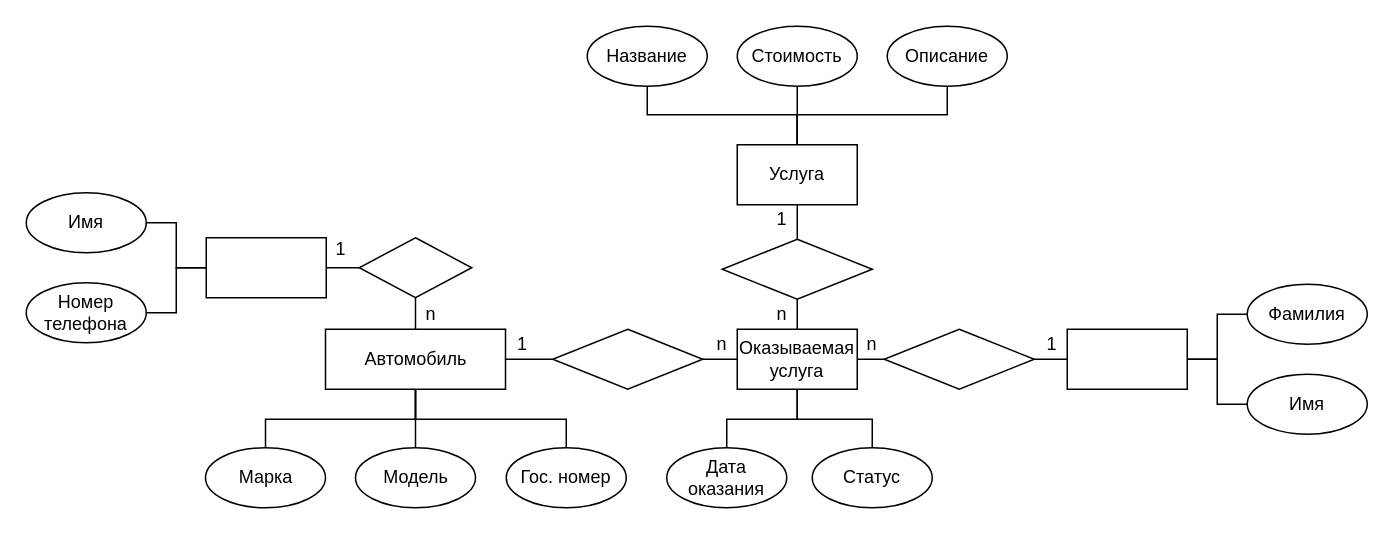
This 1394x534 diagram has some shape labels left out. Here are the shapes that lost their labels. From the top down, the centre of each, then its label:
At pixel 265 267: "Клиент".
At pixel 415 267: "Владеет".
At pixel 796 268: "Содержит".
At pixel 627 358: "Оказывается".
At pixel 958 358: "Выполняется".
At pixel 1126 358: "Сотрудник".
